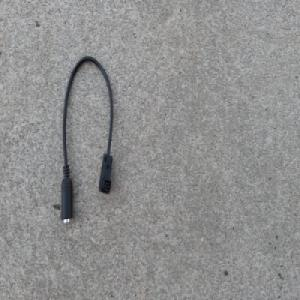Wire: (59, 53, 115, 229)
